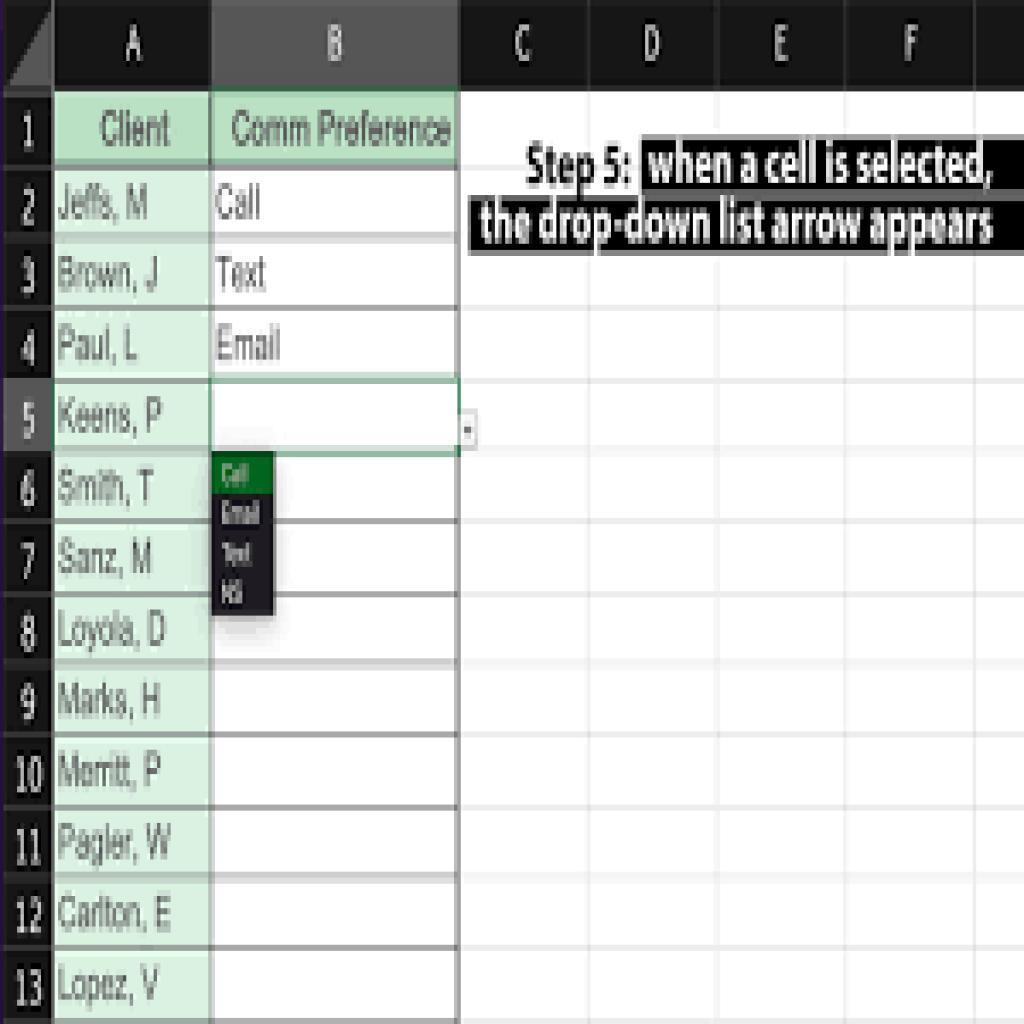table: (1, 1, 1024, 1024)
